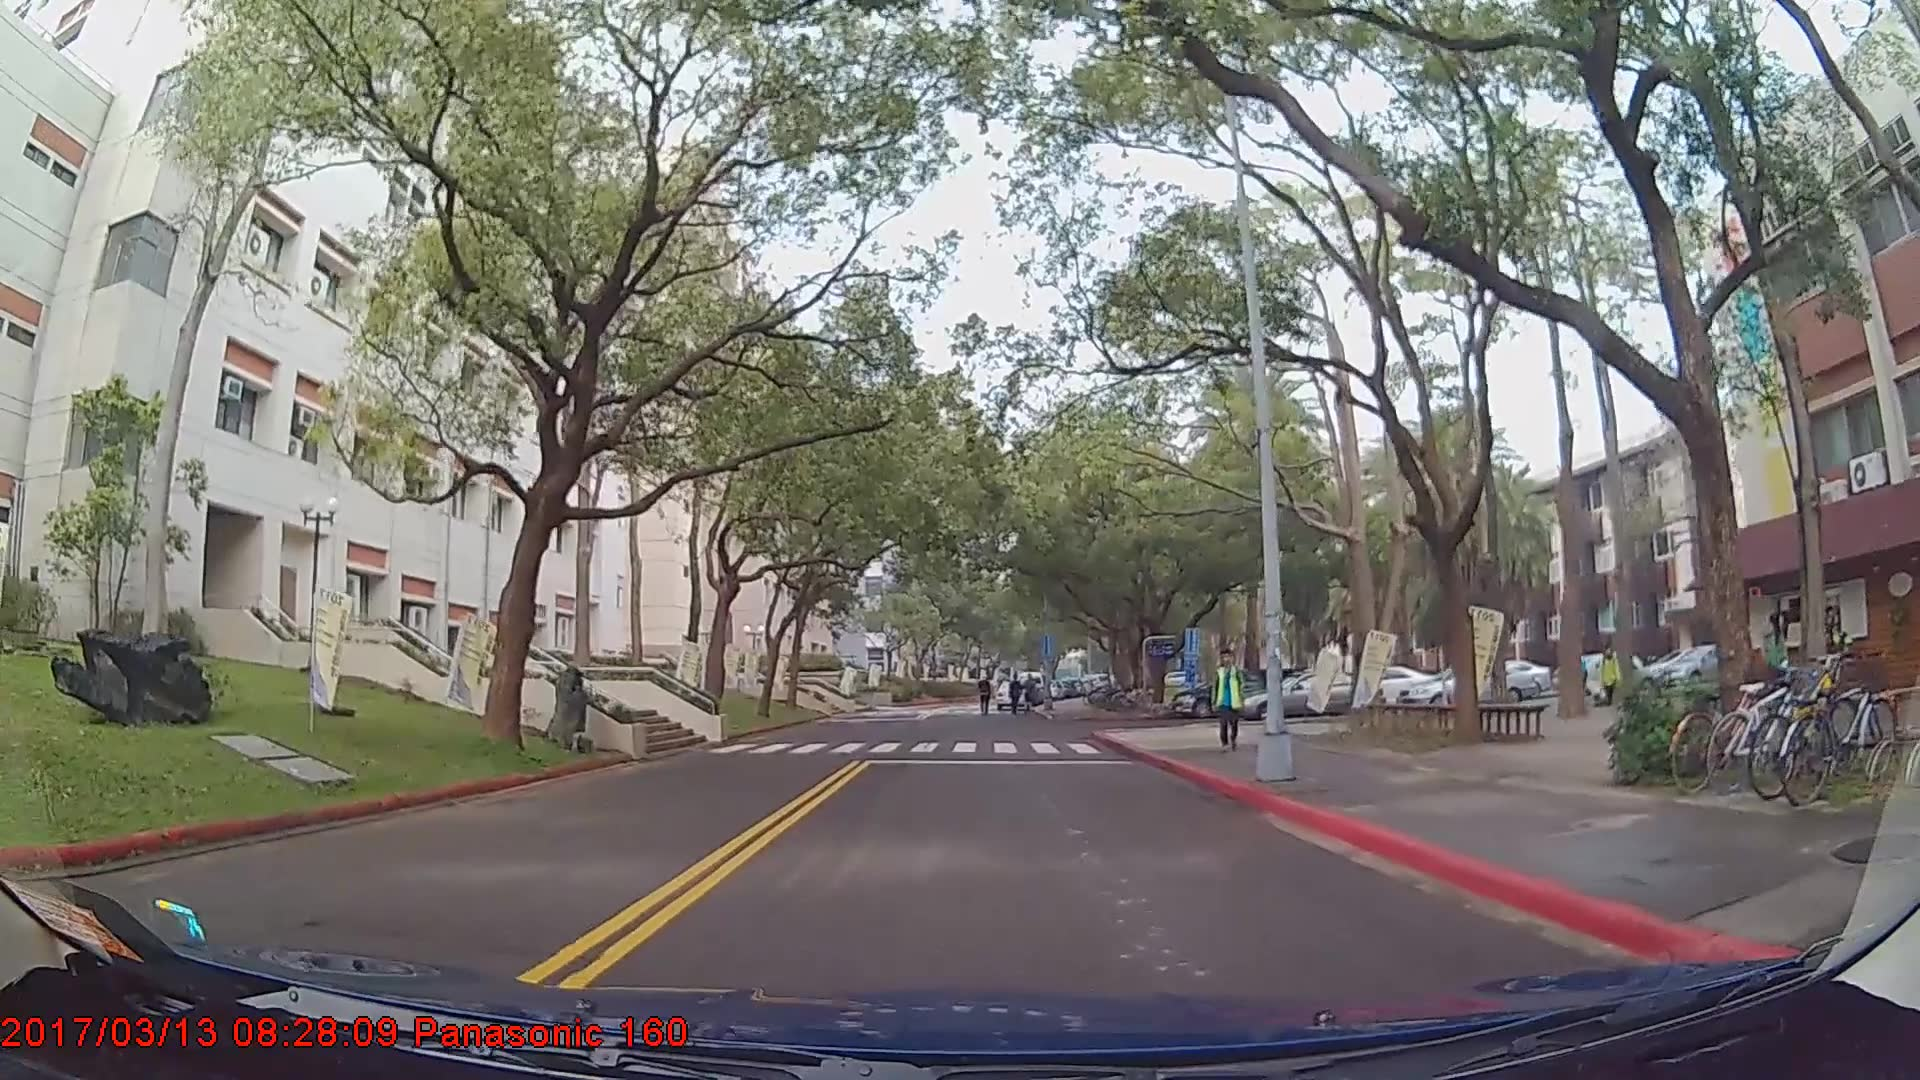pedestrian: (1210, 649, 1248, 752), (1597, 643, 1621, 706), (1007, 670, 1027, 714)
vehicle: (1238, 670, 1386, 723), (1400, 658, 1538, 714)
